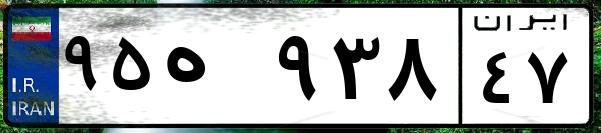3: (330, 28, 385, 110)
4: (475, 38, 525, 113)
5: (110, 28, 158, 98)
7: (525, 38, 570, 115)
8: (385, 28, 445, 110)
9: (270, 28, 330, 110), (57, 26, 110, 100)
ه: (158, 20, 270, 120)
